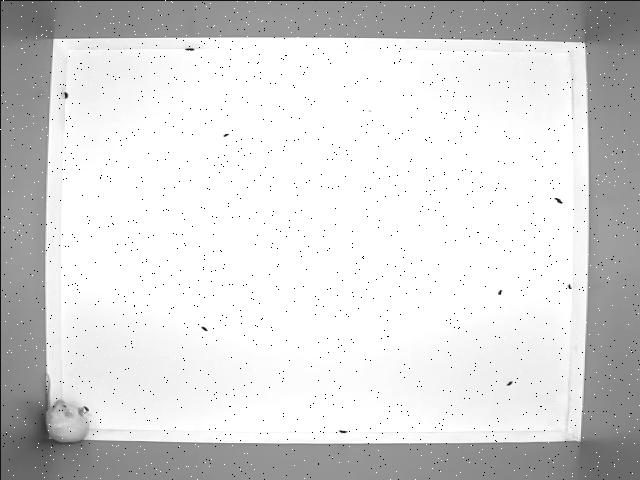Tikus: (41, 369, 89, 442)
